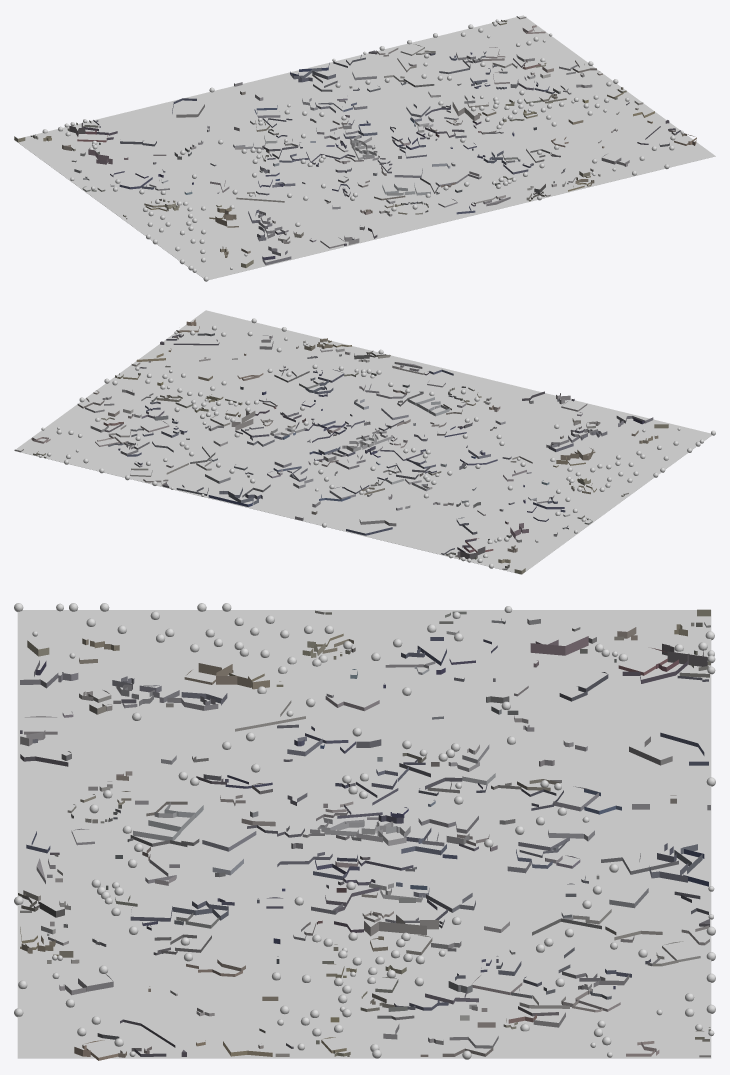
3 renders of one model, top to bottom at view 1: azimuth 30°, elevation 25°; view 2: azimuth 150°, elevation 25°; view 3: azimuth 270°, elevation 25°, orthographic. The views are drawn at different scales.
Visible parts, largest first — view 1: Ground_Base; view 2: Ground_Base; view 3: Ground_Base, BLD-158.
Part boxes in pixels (x1=…): Ground_Base: x1=15, y1=15, x2=715, y2=279; Ground_Base: x1=14, y1=310, x2=711, y2=574; Ground_Base: x1=17, y1=610, x2=711, y2=1058; BLD-158: x1=364, y1=914, x2=438, y2=936.
Size of the model in its own units: 1377 by 19.43 by 902.
